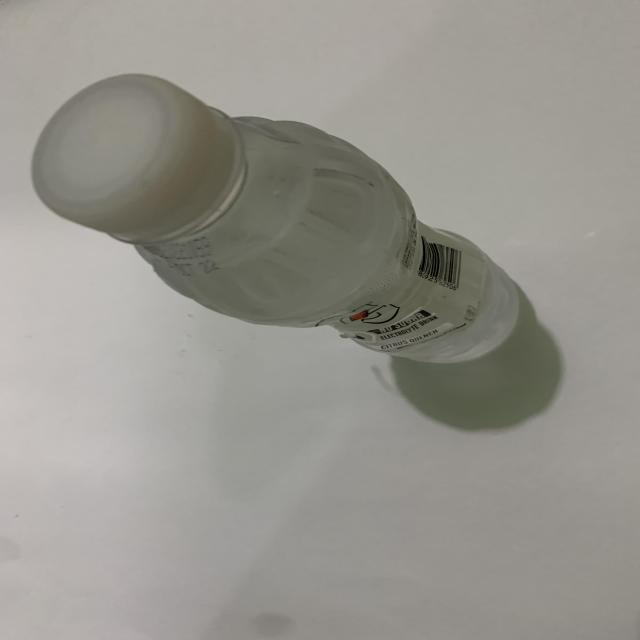bottle: (27, 70, 525, 367)
